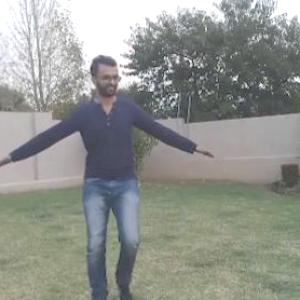land: (1, 28, 244, 299)
